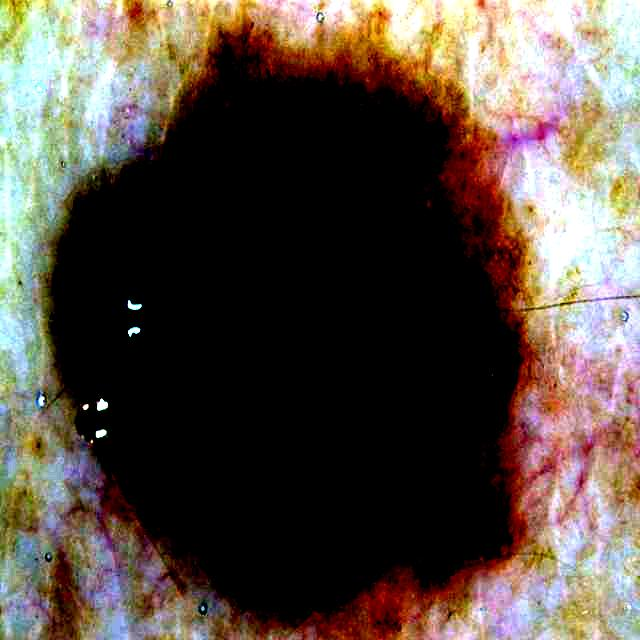MEL: (74, 28, 521, 606)
